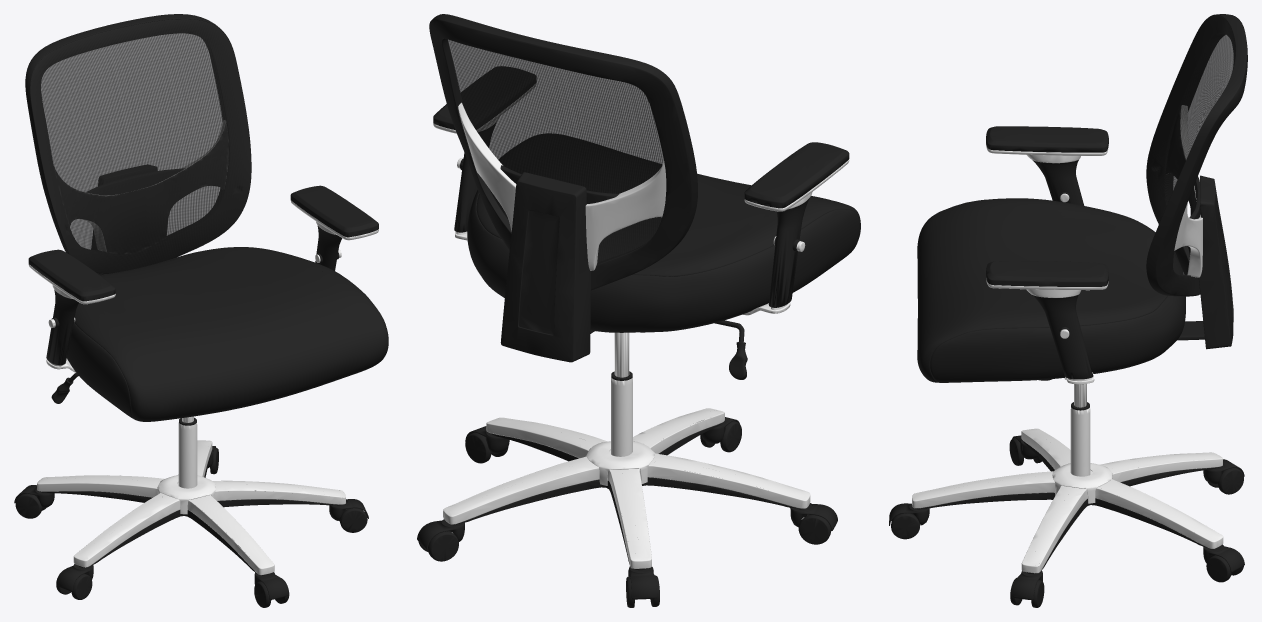
File: chair-task-1k.glb
3 renders of one model, left to right at view 1: azimuth 30°, elevation 25°; view 2: azimuth 150°, elevation 25°; view 3: azimuth 270°, elevation 25°, orthographic. The views are drawn at different scales.
Visible parts, largest first — view 1: Cylinder002_0; view 2: Cylinder002_0; view 3: Cylinder002_0.
Part boxes in pixels (x1=…): Cylinder002_0: x1=14, y1=14, x2=388, y2=607; Cylinder002_0: x1=417, y1=14, x2=860, y2=607; Cylinder002_0: x1=889, y1=14, x2=1247, y2=607.
Size of the model in its own units: 0.7429 by 1.06 by 0.7124.
Materials: 2 (2 with a texture image).
